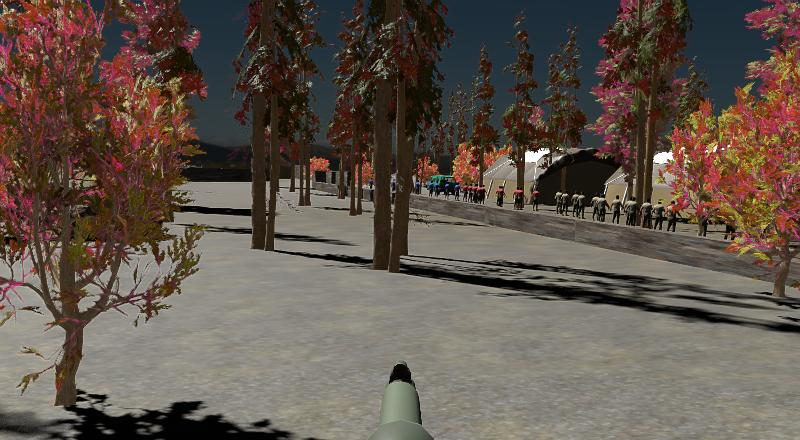Human: (530, 185, 543, 213), (512, 184, 526, 210), (495, 183, 507, 209)
car: (427, 174, 461, 197)
